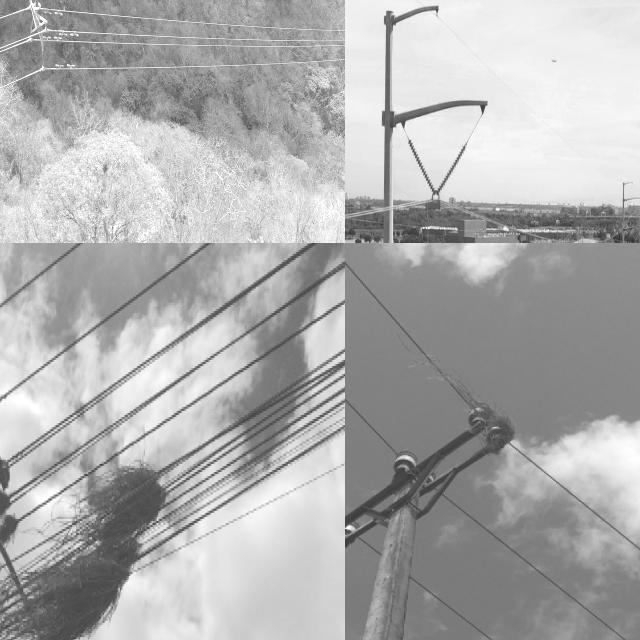植被遮挡: (0, 465, 170, 640), (410, 358, 518, 454)
正常绝缘子: (431, 133, 473, 203), (403, 127, 439, 203)
